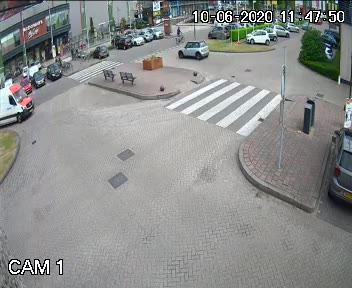car: (0, 82, 41, 125), (174, 39, 210, 64)
